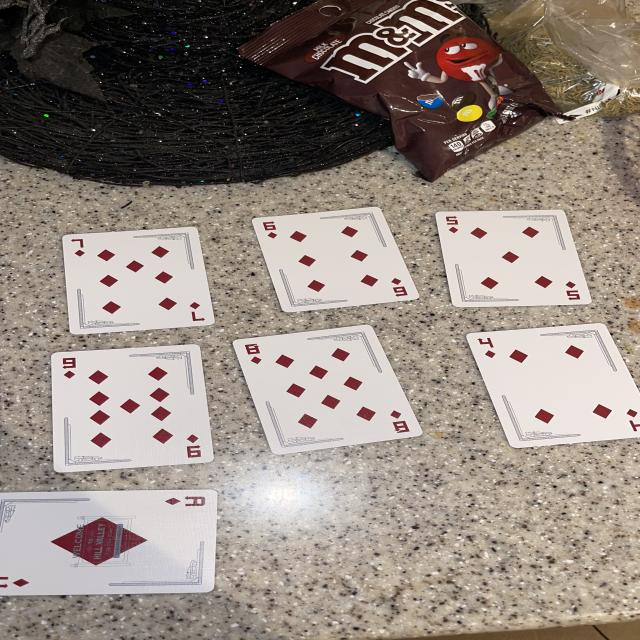4 of diamonds: (467, 324, 640, 448)
5 of diamonds: (436, 210, 591, 308)
6 of diamonds: (251, 208, 418, 312)
7 of diamonds: (62, 228, 213, 335)
8 of diamonds: (233, 325, 422, 454)
9 of diamonds: (47, 345, 213, 472)
Ace of diamonds: (0, 490, 218, 596)
